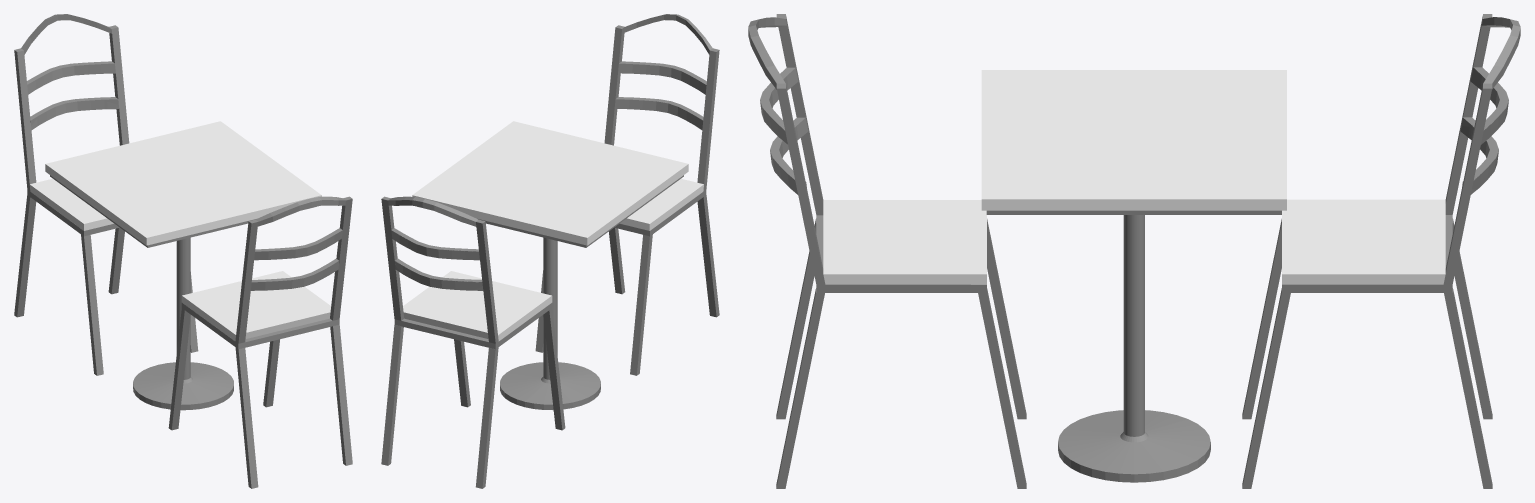
The model's file is Table_Gray.fbx.
3 renders of one model, left to right at view 1: azimuth 30°, elevation 25°; view 2: azimuth 150°, elevation 25°; view 3: azimuth 270°, elevation 25°, orthographic. The views are drawn at different scales.
Parts seen in each view (by area): view 1: Table_Top, Chair_Mesh.2, Chair_Mesh, Table_Bottom, Chair_Puff.2, Chair_Puff; view 2: Table_Top, Chair_Mesh, Chair_Mesh.2, Table_Bottom, Chair_Puff, Chair_Puff.2; view 3: Table_Top, Chair_Mesh, Chair_Mesh.2, Table_Bottom, Chair_Puff, Chair_Puff.2.
Boxes of the visible parts, x1,y1,x2,y2 form: Table_Top: (45,121,321,245); Chair_Mesh.2: (168,196,352,488); Chair_Mesh: (14,14,198,375); Table_Bottom: (50,175,316,410); Chair_Puff.2: (182,271,331,340); Chair_Puff: (29,178,113,230); Table_Top: (412,121,688,245); Chair_Mesh: (381,196,565,488); Chair_Mesh.2: (535,14,719,375); Table_Bottom: (417,175,683,410); Chair_Puff: (403,271,552,341); Chair_Puff.2: (620,178,703,230); Table_Top: (981,70,1286,210); Chair_Mesh: (1242,14,1520,488); Chair_Mesh.2: (748,14,1026,488); Table_Bottom: (986,210,1281,482); Chair_Puff: (1282,199,1445,284); Chair_Puff.2: (823,200,986,284).
Size of the model in its own units: 1011 by 400 by 616.
Materials: 6 (6 with a texture image).
